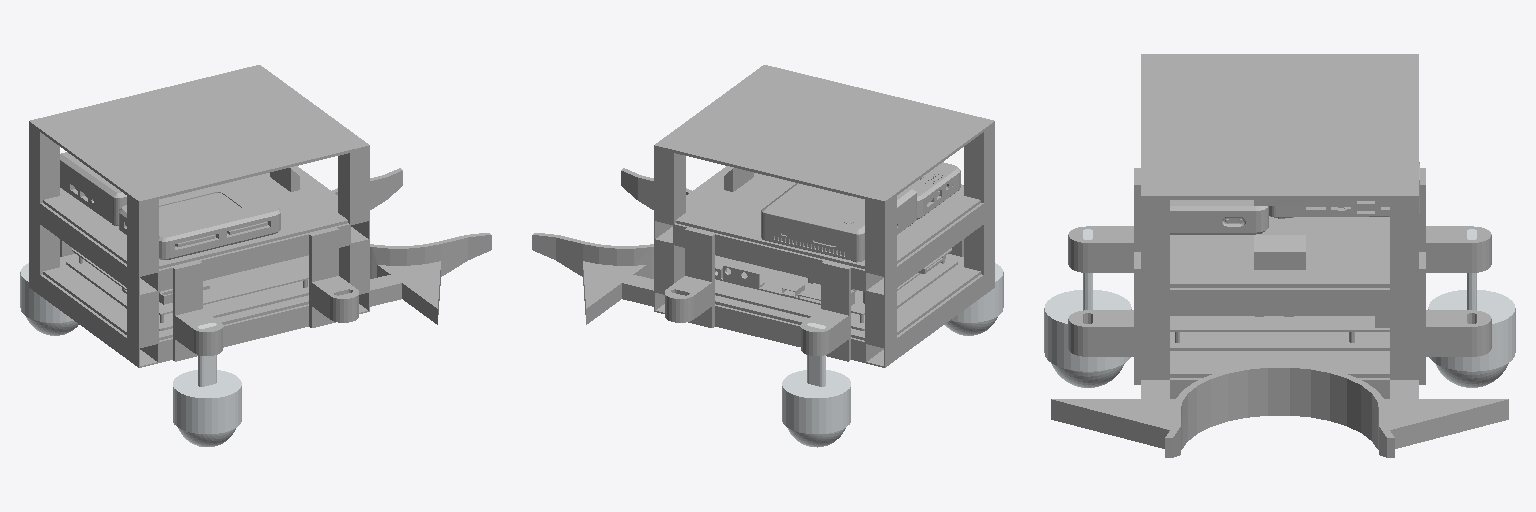
The robot description file, URDF, robot "lide":
<?xml version="1.0" encoding="utf-8"?>
<!-- This URDF was automatically created by SolidWorks to URDF Exporter! Originally created by [author] ([email redacted]) 
     Commit Version: 1.5.1-0-g916b5db  Build Version: 1.5.7152.31018
     For more information, please see http://wiki.ros.org/sw_urdf_exporter -->
<robot
  name="lide">
  <link
    name="base_link">
    <inertial>
      <origin
        xyz="-0.12391 0.084904 0.0506"
        rpy="0 0 0" />
      <mass
        value="2.9143" />
      <inertia
        ixx="0.0061741"
        ixy="-7.1545E-07"
        ixz="-1.2654E-05"
        iyy="0.0055345"
        iyz="-3.5133E-07"
        izz="0.01105" />
    </inertial>
    <visual>
      <origin
        xyz="0 0 0"
        rpy="0 0 0" />
      <geometry>
        <mesh
          filename="package://lide/meshes/base_link.STL" />
      </geometry>
      <material
        name="">
        <color
          rgba="0.75294 0.75294 0.75294 1" />
      </material>
    </visual>
    <collision>
      <origin
        xyz="0 0 0"
        rpy="0 0 0" />
      <geometry>
        <mesh
          filename="package://lide/meshes/base_link.STL" />
      </geometry>
    </collision>
  </link>
  <link
    name="LFS">
    <inertial>
      <origin
        xyz="0.04556 0.0083094 0.0029762"
        rpy="0 0 0" />
      <mass
        value="0.072793" />
      <inertia
        ixx="2.2093E-05"
        ixy="-1.6485E-08"
        ixz="-1.5645E-07"
        iyy="1.6263E-05"
        iyz="2.9641E-09"
        izz="1.8084E-05" />
    </inertial>
    <visual>
      <origin
        xyz="0 0 0"
        rpy="0 0 0" />
      <geometry>
        <mesh
          filename="package://lide/meshes/LFS.STL" />
      </geometry>
      <material
        name="">
        <color
          rgba="0.75294 0.75294 0.75294 1" />
      </material>
    </visual>
    <collision>
      <origin
        xyz="0 0 0"
        rpy="0 0 0" />
      <geometry>
        <mesh
          filename="package://lide/meshes/LFS.STL" />
      </geometry>
    </collision>
  </link>
  <joint
    name="LFS"
    type="fixed">
    <origin
      xyz="-0.054044 0.18241 -0.036503"
      rpy="1.5708 0 1.5708" />
    <parent
      link="base_link" />
    <child
      link="LFS" />
    <axis
      xyz="0 0 0" />
  </joint>
  <link
    name="LFW">
    <inertial>
      <origin
        xyz="0.015 0 3.4694E-18"
        rpy="0 0 0" />
      <mass
        value="0.76708" />
      <inertia
        ixx="0.0011643"
        ixy="4.4576E-22"
        ixz="-1.8299E-20"
        iyy="0.00063966"
        iyz="-1.3553E-20"
        izz="0.00063966" />
    </inertial>
    <visual>
      <origin
        xyz="0 0 0"
        rpy="0 0 0" />
      <geometry>
        <mesh
          filename="package://lide/meshes/LFW.STL" />
      </geometry>
      <material
        name="">
        <color
          rgba="0.89804 0.91765 0.92941 1" />
      </material>
    </visual>
    <collision>
      <origin
        xyz="0 0 0"
        rpy="0 0 0" />
      <geometry>
        <mesh
          filename="package://lide/meshes/LFW.STL" />
      </geometry>
    </collision>
  </link>
  <joint
    name="LFW"
    type="continuous">
    <origin
      xyz="0.063346 -0.006798 0.015044"
      rpy="-1.6264 0 0" />
    <parent
      link="LFS" />
    <child
      link="LFW" />
    <axis
      xyz="1 0 0" />
    <limit
      effort="3.1"
      velocity="7" />
  </joint>
  <link
    name="RFS">
    <inertial>
      <origin
        xyz="-0.019183 -0.0090093 0.052006"
        rpy="0 0 0" />
      <mass
        value="0.072793" />
      <inertia
        ixx="2.2093E-05"
        ixy="-1.6485E-08"
        ixz="1.5645E-07"
        iyy="1.6263E-05"
        iyz="-2.9641E-09"
        izz="1.8084E-05" />
    </inertial>
    <visual>
      <origin
        xyz="0 0 0"
        rpy="0 0 0" />
      <geometry>
        <mesh
          filename="package://lide/meshes/RFS.STL" />
      </geometry>
      <material
        name="">
        <color
          rgba="0.75294 0.75294 0.75294 1" />
      </material>
    </visual>
    <collision>
      <origin
        xyz="0 0 0"
        rpy="0 0 0" />
      <geometry>
        <mesh
          filename="package://lide/meshes/RFS.STL" />
      </geometry>
    </collision>
  </link>
  <joint
    name="RFS"
    type="fixed">
    <origin
      xyz="-0.10307 -0.042784 -0.019216"
      rpy="1.5708 0 1.5708" />
    <parent
      link="base_link" />
    <child
      link="RFS" />
    <axis
      xyz="0 0 0" />
  </joint>
  <link
    name="RFW">
    <inertial>
      <origin
        xyz="-0.015 0 0"
        rpy="0 0 0" />
      <mass
        value="0.76708" />
      <inertia
        ixx="0.0011643"
        ixy="-1.2315E-36"
        ixz="0"
        iyy="0.00063966"
        iyz="8.0046E-39"
        izz="0.00063966" />
    </inertial>
    <visual>
      <origin
        xyz="0 0 0"
        rpy="0 0 0" />
      <geometry>
        <mesh
          filename="package://lide/meshes/RFW.STL" />
      </geometry>
      <material
        name="">
        <color
          rgba="0.89804 0.91765 0.92941 1" />
      </material>
    </visual>
    <collision>
      <origin
        xyz="0 0 0"
        rpy="0 0 0" />
      <geometry>
        <mesh
          filename="package://lide/meshes/RFW.STL" />
      </geometry>
    </collision>
  </link>
  <joint
    name="RFW"
    type="continuous">
    <origin
      xyz="-0.036969 -0.024084 0.064073"
      rpy="0 0 0" />
    <parent
      link="RFS" />
    <child
      link="RFW" />
    <axis
      xyz="1 0 0" />
    <limit
      effort="3.1"
      velocity="7" />
  </joint>
  <link
    name="LBS">
    <inertial>
      <origin
        xyz="-3.5414E-10 -0.026624 -8.5597E-10"
        rpy="0 0 0" />
      <mass
        value="0.10963" />
      <inertia
        ixx="9.4707E-05"
        ixy="-7.1331E-13"
        ixz="1.3632E-13"
        iyy="7.1991E-05"
        iyz="-4.5924E-12"
        izz="9.4742E-05" />
    </inertial>
    <visual>
      <origin
        xyz="0 0 0"
        rpy="0 0 0" />
      <geometry>
        <mesh
          filename="package://lide/meshes/LBS.STL" />
      </geometry>
      <material
        name="">
        <color
          rgba="0.89804 0.91765 0.92941 1" />
      </material>
    </visual>
    <collision>
      <origin
        xyz="0 0 0"
        rpy="0 0 0" />
      <geometry>
        <mesh
          filename="package://lide/meshes/LBS.STL" />
      </geometry>
    </collision>
  </link>
  <joint
    name="LBS"
    type="fixed">
    <origin
      xyz="-0.202 0.228 -0.012562"
      rpy="1.5708 0 1.5708" />
    <parent
      link="base_link" />
    <child
      link="LBS" />
    <axis
      xyz="0 0 0" />
  </joint>
  <link
    name="LBW">
    <inertial>
      <origin
        xyz="-6.9389E-18 6.6741E-05 -2.7756E-17"
        rpy="0 0 0" />
      <mass
        value="0.30333" />
      <inertia
        ixx="0.00010932"
        ixy="1.1711E-37"
        ixz="0"
        iyy="0.00010993"
        iyz="-3.9564E-38"
        izz="0.00010932" />
    </inertial>
    <visual>
      <origin
        xyz="0 0 0"
        rpy="0 0 0" />
      <geometry>
        <mesh
          filename="package://lide/meshes/LBW.STL" />
      </geometry>
      <material
        name="">
        <color
          rgba="0.89804 0.91765 0.92941 1" />
      </material>
    </visual>
    <collision>
      <origin
        xyz="0 0 0"
        rpy="0 0 0" />
      <geometry>
        <mesh
          filename="package://lide/meshes/LBW.STL" />
      </geometry>
    </collision>
  </link>
  <joint
    name="LBW"
    type="continuous">
    <origin
      xyz="0 -0.055738 0"
      rpy="0 -0.31141 -1.5708" />
    <parent
      link="LBS" />
    <child
      link="LBW" />
    <axis
      xyz="0 1 0" />
  </joint>
  <link
    name="RBS">
    <inertial>
      <origin
        xyz="-3.5414E-10 -0.026624 -8.5597E-10"
        rpy="0 0 0" />
      <mass
        value="0.10963" />
      <inertia
        ixx="9.4707E-05"
        ixy="-7.1331E-13"
        ixz="1.3632E-13"
        iyy="7.1991E-05"
        iyz="-4.5924E-12"
        izz="9.4742E-05" />
    </inertial>
    <visual>
      <origin
        xyz="0 0 0"
        rpy="0 0 0" />
      <geometry>
        <mesh
          filename="package://lide/meshes/RBS.STL" />
      </geometry>
      <material
        name="">
        <color
          rgba="0.89804 0.91765 0.92941 1" />
      </material>
    </visual>
    <collision>
      <origin
        xyz="0 0 0"
        rpy="0 0 0" />
      <geometry>
        <mesh
          filename="package://lide/meshes/RBS.STL" />
      </geometry>
    </collision>
  </link>
  <joint
    name="RBS"
    type="fixed">
    <origin
      xyz="-0.202 -0.062003 -0.012562"
      rpy="1.5708 0 1.5708" />
    <parent
      link="base_link" />
    <child
      link="RBS" />
    <axis
      xyz="0 0 0" />
  </joint>
  <link
    name="RBW">
    <inertial>
      <origin
        xyz="6.9389E-18 -2.7756E-17 -2.7756E-17"
        rpy="0 0 0" />
      <mass
        value="0.30333" />
      <inertia
        ixx="0.00010932"
        ixy="3.0972E-39"
        ixz="7.0418E-41"
        iyy="0.00010993"
        iyz="1.9488E-40"
        izz="0.00010932" />
    </inertial>
    <visual>
      <origin
        xyz="0 0 0"
        rpy="0 0 0" />
      <geometry>
        <mesh
          filename="package://lide/meshes/RBW.STL" />
      </geometry>
      <material
        name="">
        <color
          rgba="0.89804 0.91765 0.92941 1" />
      </material>
    </visual>
    <collision>
      <origin
        xyz="0 0 0"
        rpy="0 0 0" />
      <geometry>
        <mesh
          filename="package://lide/meshes/RBW.STL" />
      </geometry>
    </collision>
  </link>
  <joint
    name="RBW"
    type="continuous">
    <origin
      xyz="0 -0.055738 0"
      rpy="0 0 -1.5708" />
    <parent
      link="RBS" />
    <child
      link="RBW" />
    <axis
      xyz="0 1 0" />
  </joint>
  <link
    name="fcam">
    <inertial>
      <origin
        xyz="-0.011554 -2.6443E-06 0.0012903"
        rpy="0 0 0" />
      <mass
        value="0.043612" />
      <inertia
        ixx="2.3571E-05"
        ixy="-1.0184E-09"
        ixz="2.1759E-08"
        iyy="4.2948E-06"
        iyz="-8.8502E-10"
        izz="2.2106E-05" />
    </inertial>
    <visual>
      <origin
        xyz="0 0 0"
        rpy="0 0 0" />
      <geometry>
        <mesh
          filename="package://lide/meshes/fcam.STL" />
      </geometry>
      <material
        name="">
        <color
          rgba="0.79216 0.81961 0.93333 1" />
      </material>
    </visual>
    <collision>
      <origin
        xyz="0 0 0"
        rpy="0 0 0" />
      <geometry>
        <mesh
          filename="package://lide/meshes/fcam.STL" />
      </geometry>
    </collision>
  </link>
  <joint
    name="fcam"
    type="fixed">
    <origin
      xyz="-0.0038823 0.083 0.12982"
      rpy="0 0.2618 0" />
    <parent
      link="base_link" />
    <child
      link="fcam" />
    <axis
      xyz="0 0 0" />
  </joint>
  <link
    name="bcam">
    <inertial>
      <origin
        xyz="-0.020103 -2.6435E-06 -0.0072587"
        rpy="0 0 0" />
      <mass
        value="0.043612" />
      <inertia
        ixx="2.3571E-05"
        ixy="-1.0183E-09"
        ixz="2.1758E-08"
        iyy="4.2948E-06"
        iyz="-8.8548E-10"
        izz="2.2106E-05" />
    </inertial>
    <visual>
      <origin
        xyz="0 0 0"
        rpy="0 0 0" />
      <geometry>
        <mesh
          filename="package://lide/meshes/bcam.STL" />
      </geometry>
      <material
        name="">
        <color
          rgba="0.79216 0.81961 0.93333 1" />
      </material>
    </visual>
    <collision>
      <origin
        xyz="0 0 0"
        rpy="0 0 0" />
      <geometry>
        <mesh
          filename="package://lide/meshes/bcam.STL" />
      </geometry>
    </collision>
  </link>
  <joint
    name="bcam"
    type="fixed">
    <origin
      xyz="0 0.083 0.091232"
      rpy="0 0.7854 0" />
    <parent
      link="base_link" />
    <child
      link="bcam" />
    <axis
      xyz="0 0 0" />
  </joint>
  <link
    name="Lidar">
    <inertial>
      <origin
        xyz="0.013523 0.00046196 -0.028765"
        rpy="0 0 0" />
      <mass
        value="0.073085" />
      <inertia
        ixx="1.9581E-05"
        ixy="-1.0393E-07"
        ixz="-4.2839E-07"
        iyy="2.4125E-05"
        iyz="9.4271E-09"
        izz="4.1418E-05" />
    </inertial>
    <visual>
      <origin
        xyz="0 0 0"
        rpy="0 0 0" />
      <geometry>
        <mesh
          filename="package://lide/meshes/Lidar.STL" />
      </geometry>
      <material
        name="">
        <color
          rgba="0.79216 0.81961 0.93333 1" />
      </material>
    </visual>
    <collision>
      <origin
        xyz="0 0 0"
        rpy="0 0 0" />
      <geometry>
        <mesh
          filename="package://lide/meshes/Lidar.STL" />
      </geometry>
    </collision>
  </link>
  <joint
    name="Lidar"
    type="fixed">
    <origin
      xyz="-0.19458 0.082006 0.2065"
      rpy="0 0 0" />
    <parent
      link="base_link" />
    <child
      link="Lidar" />
    <axis
      xyz="0 0 0" />
  </joint>
  <link
    name="imu_link">
    <inertial>
      <origin
        xyz="0.0038502 6.2398E-05 -0.0010338"
        rpy="0 0 0" />
      <mass
        value="0.0018918" />
      <inertia
        ixx="7.7943E-08"
        ixy="1.3921E-10"
        ixz="1.5451E-11"
        iyy="4.8547E-08"
        iyz="-6.301E-11"
        izz="1.2523E-07" />
    </inertial>
    <visual>
      <origin
        xyz="0 0 0"
        rpy="0 0 0" />
      <geometry>
        <mesh
          filename="package://lide/meshes/imu_link.STL" />
      </geometry>
      <material
        name="">
        <color
          rgba="0.89804 0.91765 0.92941 1" />
      </material>
    </visual>
    <collision>
      <origin
        xyz="0 0 0"
        rpy="0 0 0" />
      <geometry>
        <mesh
          filename="package://lide/meshes/imu_link.STL" />
      </geometry>
    </collision>
  </link>
  <joint
    name="imu_link"
    type="fixed">
    <origin
      xyz="-0.039 0.083 0.155"
      rpy="0 0 0" />
    <parent
      link="base_link" />
    <child
      link="imu_link" />
    <axis
      xyz="0 0 0" />
  </joint>
</robot>

--- What the picture shows (computed from the rendered views, not written in the file) ---
The picture shows the robot from 3 angles, left to right: view 1: azimuth 30°, elevation 25°; view 2: azimuth 150°, elevation 25°; view 3: azimuth 270°, elevation 25°; orthographic projection.
Model lide with 13 links and 12 joints (4 continuous, 8 fixed), rooted at base_link, posed all joints at 0.
Visible links, largest first — view 1: base_link, RBS, LBS, RBW; view 2: base_link, LBS, RBS, LBW, RBW; view 3: base_link, LBS, RBS, RBW, LBW.
Boxes of the visible links, <box> form: base_link: <box>29,65,491,367</box>; RBS: <box>173,323,241,433</box>; LBS: <box>20,263,73,322</box>; RBW: <box>178,428,235,446</box>; base_link: <box>532,65,994,367</box>; LBS: <box>782,323,850,433</box>; RBS: <box>950,263,1003,322</box>; LBW: <box>788,428,845,447</box>; RBW: <box>945,317,997,335</box>; base_link: <box>1051,54,1508,457</box>; LBS: <box>1428,229,1515,371</box>; RBS: <box>1044,229,1131,371</box>; RBW: <box>1051,363,1124,387</box>; LBW: <box>1435,363,1508,387</box>.
Size in the robot's own frame: 0.398 by 0.356 by 0.2513 metres.
Meshes: 13 distinct files referenced, 5 mesh visuals loaded (5 binary STL); not drawn: 8 (reference not matched to a file when rendering).